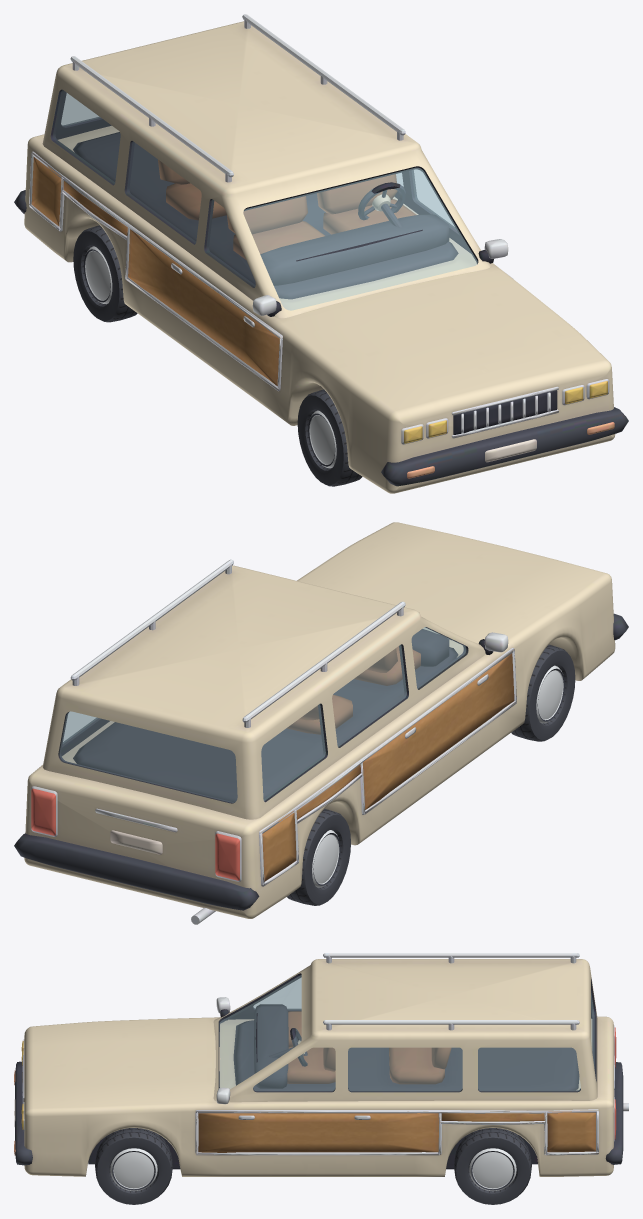
Rendered from 1980s-station-wagon.glb.
The picture shows the model from 3 angles, top to bottom: view 1: azimuth 30°, elevation 25°; view 2: azimuth 150°, elevation 25°; view 3: azimuth 270°, elevation 25°; orthographic projection. The views are drawn at different scales.
Parts seen in each view (by area): view 1: 1980s-station-wagon_body, 1980s-station-wagon_windows, 1980s-station-wagon_wheel_fr, 1980s-station-wagon_wheel_rr; view 2: 1980s-station-wagon_body, 1980s-station-wagon_windows, 1980s-station-wagon_wheel_fr, 1980s-station-wagon_wheel_rr; view 3: 1980s-station-wagon_body, 1980s-station-wagon_windows, 1980s-station-wagon_wheel_rl, 1980s-station-wagon_wheel_fl.
Boxes of the visible parts, x1,y1,x2,y2 form: 1980s-station-wagon_body: (14,14,628,493); 1980s-station-wagon_windows: (53,90,477,310); 1980s-station-wagon_wheel_fr: (297,389,362,486); 1980s-station-wagon_wheel_rr: (73,225,137,322); 1980s-station-wagon_body: (14,522,628,924); 1980s-station-wagon_windows: (60,627,465,802); 1980s-station-wagon_wheel_fr: (511,644,575,741); 1980s-station-wagon_wheel_rr: (287,808,350,905); 1980s-station-wagon_body: (14,953,628,1176); 1980s-station-wagon_windows: (220,975,594,1090); 1980s-station-wagon_wheel_rl: (454,1128,531,1204); 1980s-station-wagon_wheel_fl: (95,1128,172,1204).
Size of the model in its own units: 1.85 by 1.53 by 4.88.
Materials: 18 (5 with a texture image).
